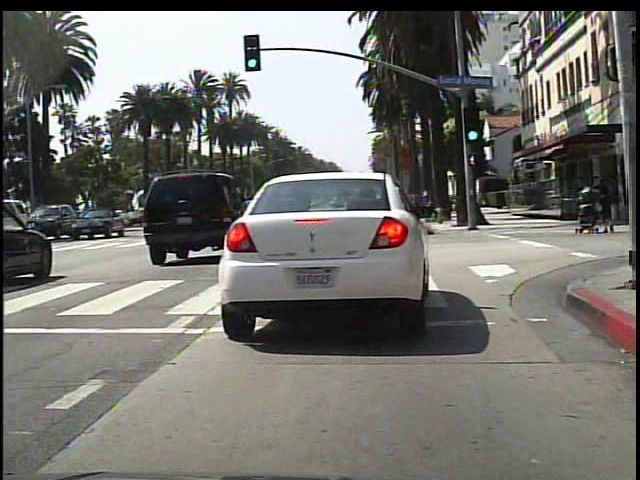person: (574, 161, 615, 240)
